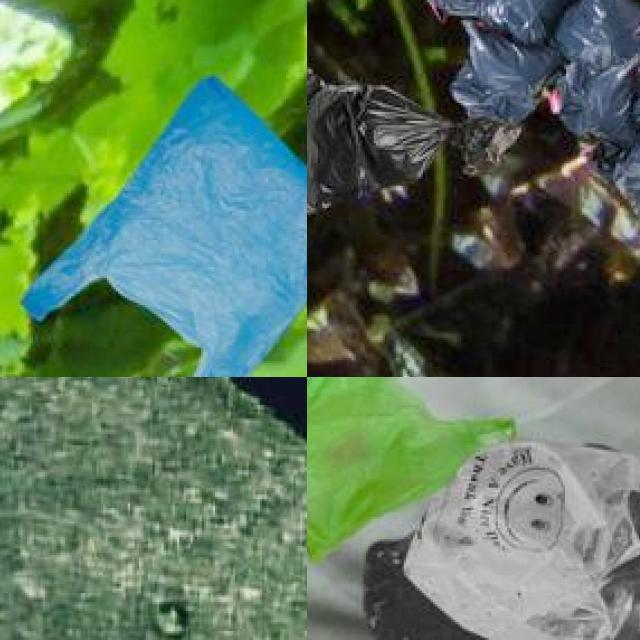waste: (23, 74, 307, 377), (416, 434, 640, 640), (307, 377, 516, 542), (373, 521, 640, 640), (307, 69, 520, 213), (546, 61, 640, 136), (426, 0, 586, 40), (607, 146, 640, 264)
